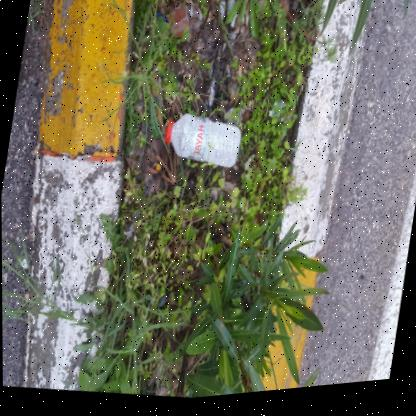Plastic: (164, 115, 241, 171), (205, 64, 215, 108), (156, 15, 167, 25)
Waste: (272, 104, 290, 126), (219, 3, 236, 24), (164, 122, 172, 145), (230, 16, 237, 31), (237, 68, 242, 81)
